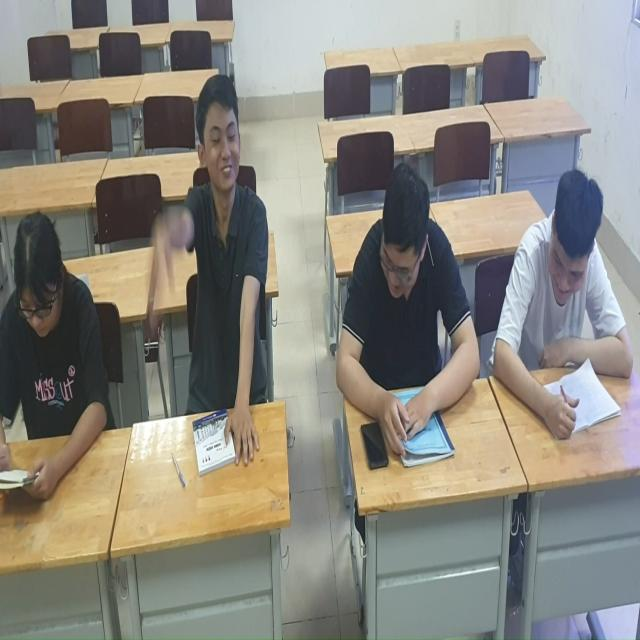read: (332, 149, 482, 459), (486, 156, 636, 461), (1, 204, 128, 502)
